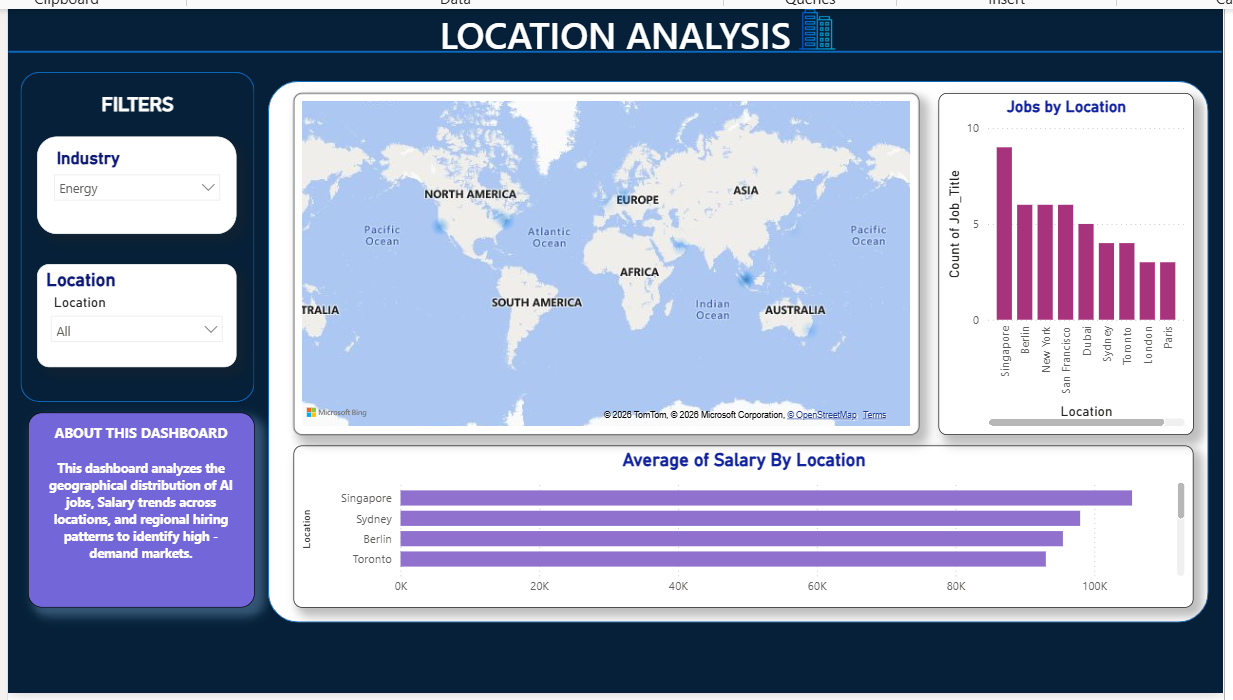

This screenshot's page, from the dashboard's own definition file:
{"tool":"powerbi","page":{"name":"Location Analysis","canvas":[1280,720],"ordinal":3},"visuals":[{"type":"shape","box":[274.7,75.8,990,570],"z":0},{"type":"clusteredBarChart","title":"Average of Salary By Location","fields":{"Category":["Sheet1.Location"],"Y":["Avg(Sheet1.Salary_USD)"]},"box":[301.6,459.5,947.4,170.5],"z":1000},{"type":"columnChart","title":"Jobs by Location","fields":{"Category":["Sheet1.Location"],"Y":["CountNonNull(Sheet1.Job_Title)"]},"box":[980.5,88.4,268.4,360],"z":2000},{"type":"map","fields":{"Category":["Sheet1.Location"],"Size":["CountNonNull(Sheet1.Job_Title)"]},"box":[301.6,88.4,658.4,360],"z":3000},{"type":"textbox","box":[22.1,424.7,238.4,205.3],"z":4000},{"type":"slicer","title":"Location","fields":{"Values":["Sheet1.Location"]},"box":[31.6,268.4,210,108.9],"z":5000},{"type":"slicer","fields":{"Values":["Sheet1.Industry"]},"box":[31.6,134.2,210,102.6],"z":6000},{"type":"textbox","title":"LOCATION ANALYSIS","box":[0,0,1280.5,42.6],"z":7000},{"type":"image","box":[806.9,0,91.6,42.6],"z":8000},{"type":"shape","box":[14.2,66.3,246.3,347.4],"z":9000},{"type":"shape","box":[1.6,0,1277.4,90],"z":10000},{"type":"textbox","title":"FILTERS","box":[41.1,88.4,192.6,28.4],"z":11000}]}

Visuals, with their boxes on the page's 1280x720 design canvas (x1, y1, x2, y2). These are canvas units, not pixel positions in the 1233x700 screenshot, which may show the page scaled, cropped or inside an application window:
shape: 275,76,1265,646
"Average of Salary By Location" clusteredBarChart: 302,460,1249,630
"Jobs by Location" columnChart: 980,88,1249,448
map - Sheet1.Location x CountNonNull(Sheet1.Job_Title): 302,88,960,448
textbox: 22,425,260,630
"Location" slicer: 32,268,242,377
slicer - Sheet1.Industry: 32,134,242,237
"LOCATION ANALYSIS" textbox: 0,0,1280,43
image: 807,0,898,43
shape: 14,66,260,414
shape: 2,0,1279,90
"FILTERS" textbox: 41,88,234,117
